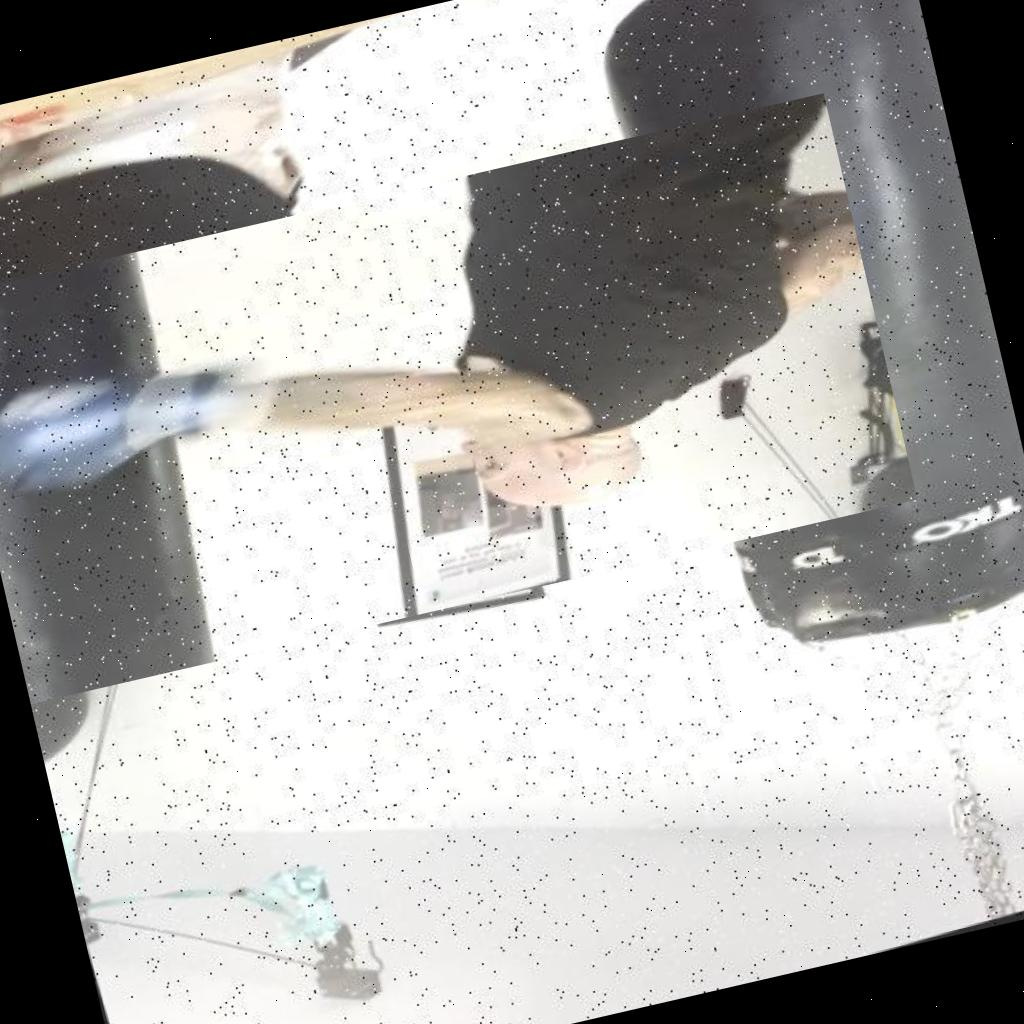bag: (542, 0, 1024, 691)
hook: (0, 93, 917, 704)
